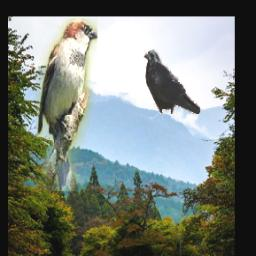Crow: (144, 50, 201, 115)
Sparrow: (37, 19, 98, 192)
